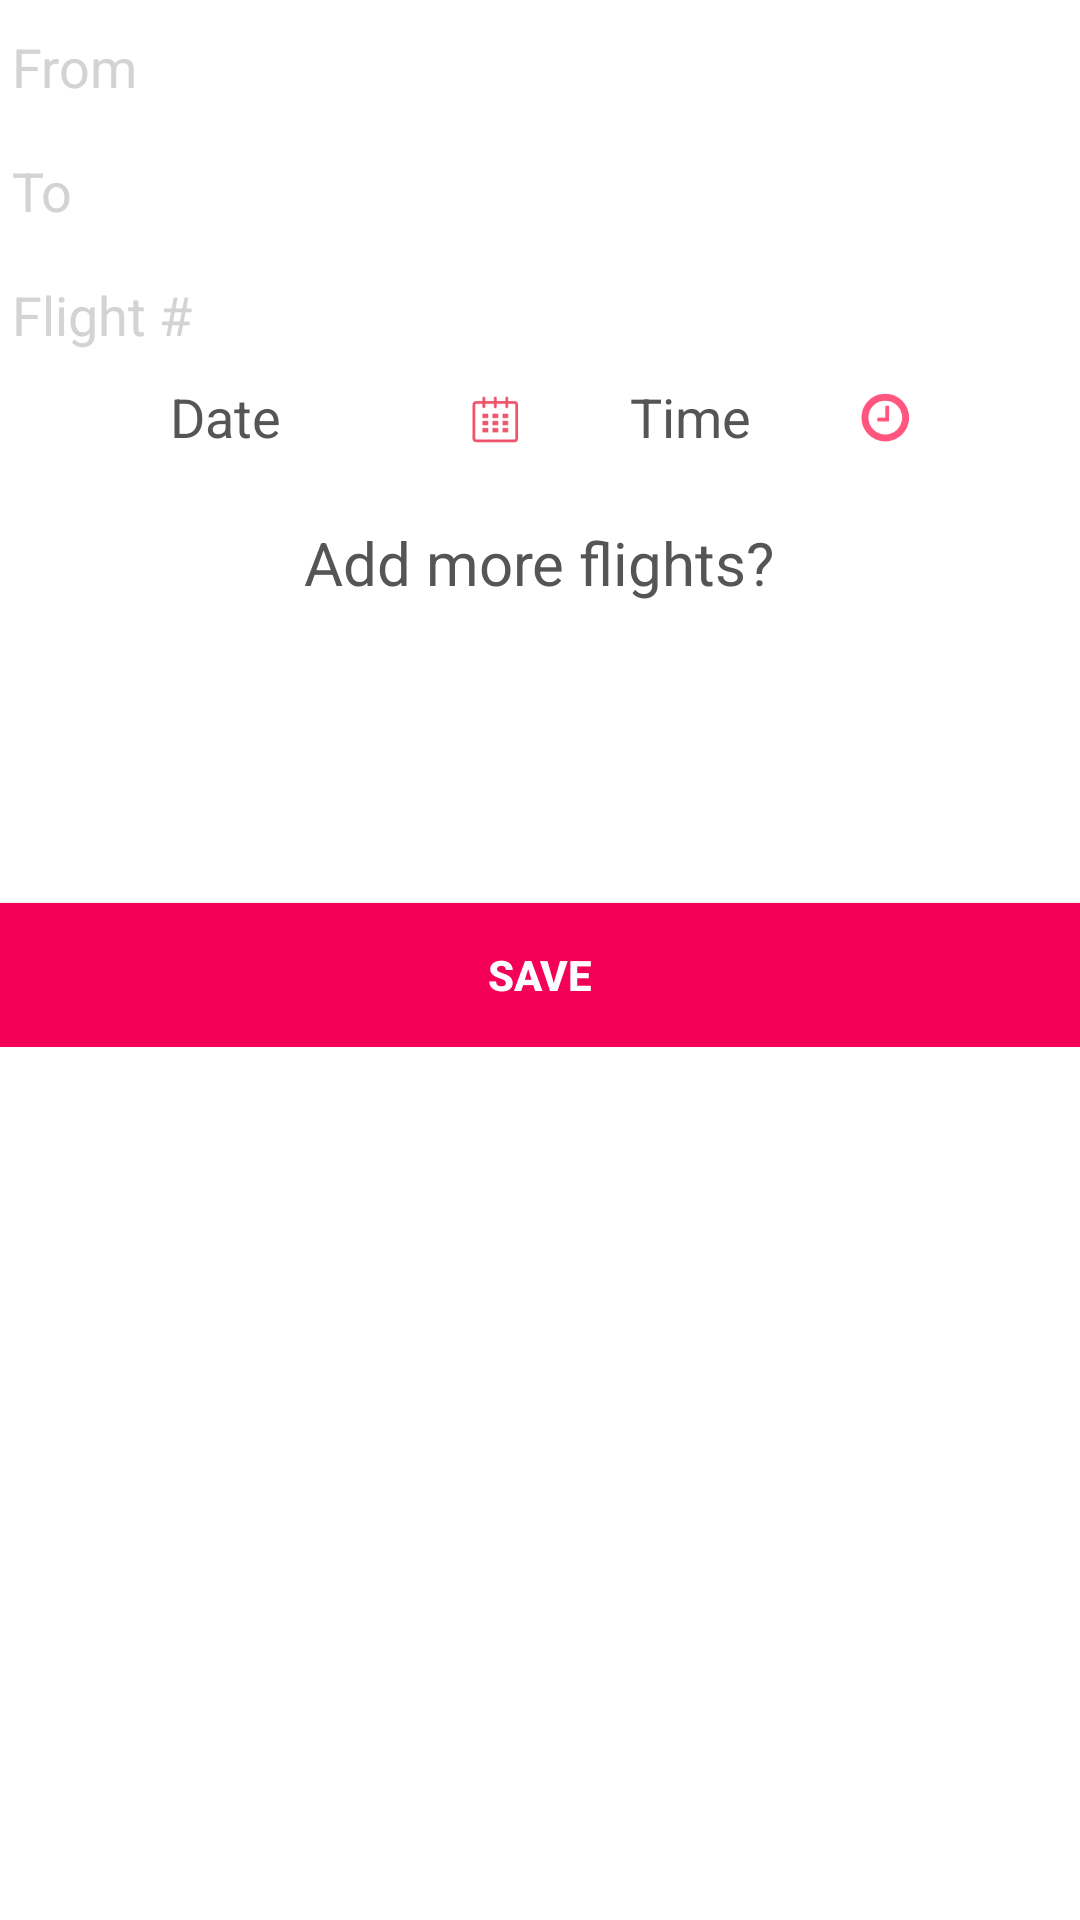

Point at icon controls on the screen. Image size 1080px×1920px, points as [x,y].
calendar: [495,419]
